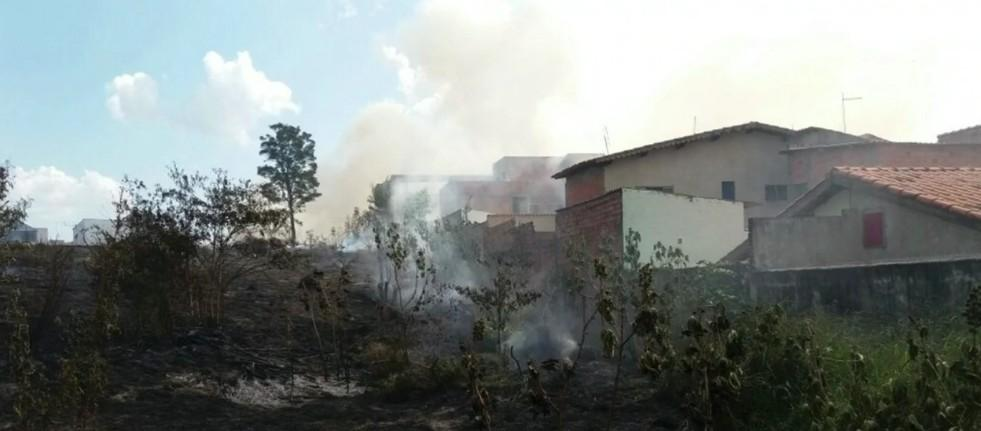smoke: (527, 320, 573, 358)
